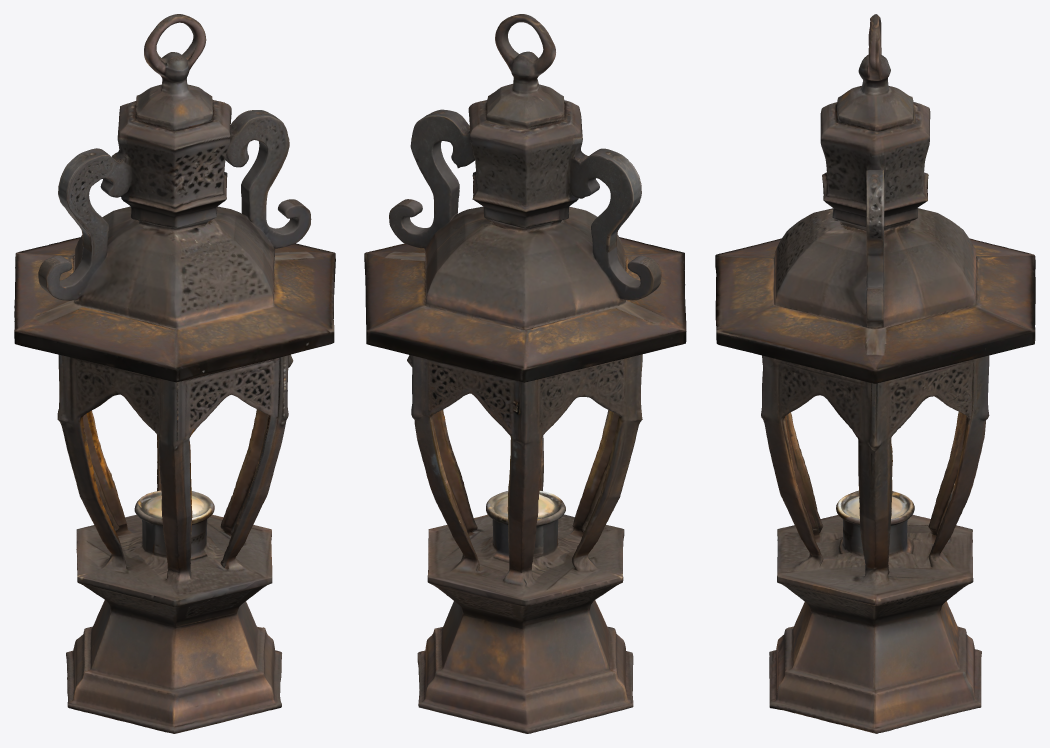
Rendered from Enchanted_Lantern_0617055806_texture.fbx.
3 renders of one model, left to right at view 1: azimuth 30°, elevation 25°; view 2: azimuth 150°, elevation 25°; view 3: azimuth 270°, elevation 25°, orthographic.
Parts seen in each view (by area): view 1: Mesh_0; view 2: Mesh_0; view 3: Mesh_0.
Part boxes in pixels (x1,y1,x2,y2): Mesh_0: (14,14,335,733); Mesh_0: (364,14,686,733); Mesh_0: (715,14,1035,733).
Bounding box in the file's own units: 101 × 200 × 87.27.
1 material, 1 textured.
